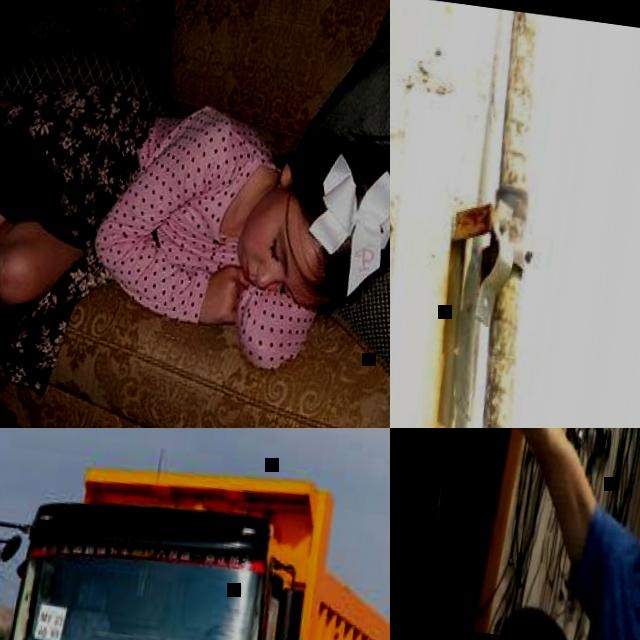NO-Hardhat: (273, 126, 390, 316)
NO-Mask: (232, 213, 271, 285)
NO-Safety Vest: (128, 104, 261, 280), (590, 553, 640, 640)
Person: (0, 52, 390, 390), (440, 428, 640, 640)
machinery: (0, 428, 390, 640)
